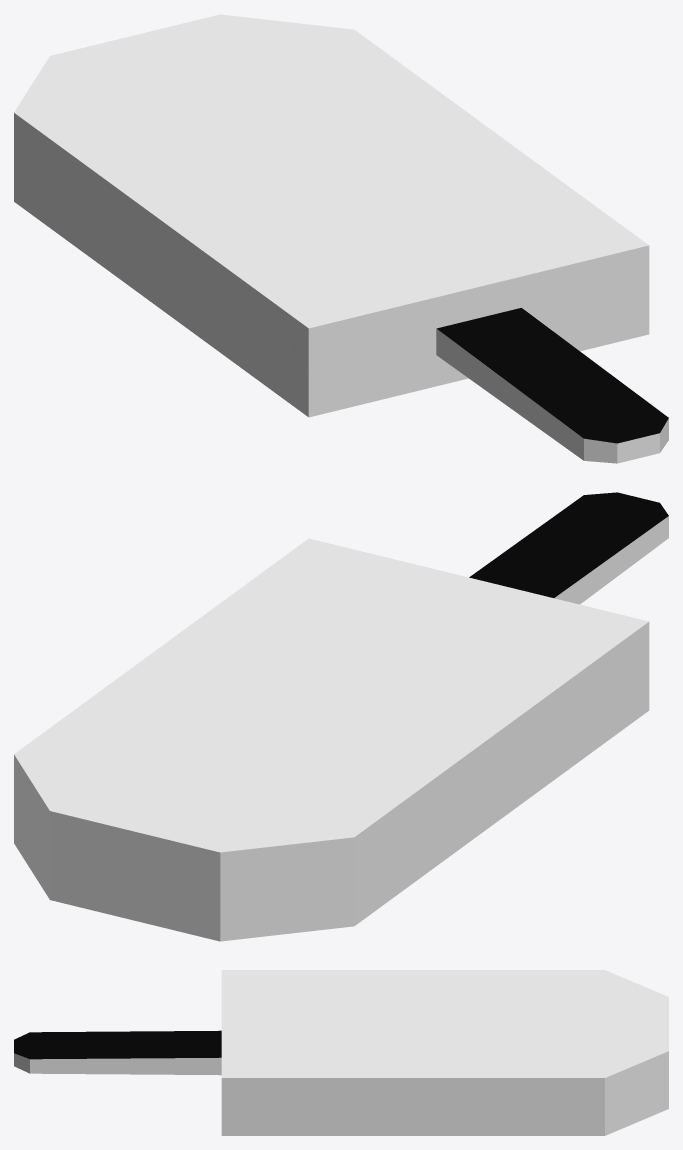
File: popsicle.gltf
The picture shows the model from 3 angles, top to bottom: view 1: azimuth 30°, elevation 25°; view 2: azimuth 150°, elevation 25°; view 3: azimuth 270°, elevation 25°; orthographic projection. The views are drawn at different scales.
Visible parts, largest first — view 1: cuboid-col; view 2: cuboid-col; view 3: cuboid-col.
Part boxes in pixels (x1,y1,x2,y2): cuboid-col: (14,14,668,463); cuboid-col: (14,492,668,941); cuboid-col: (14,970,668,1135).
Bounding box in the file's own units: 0.25 × 0.0625 × 0.6406.
1 material, 1 textured.
